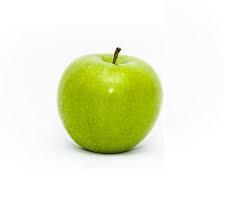apples: (55, 45, 163, 154)
